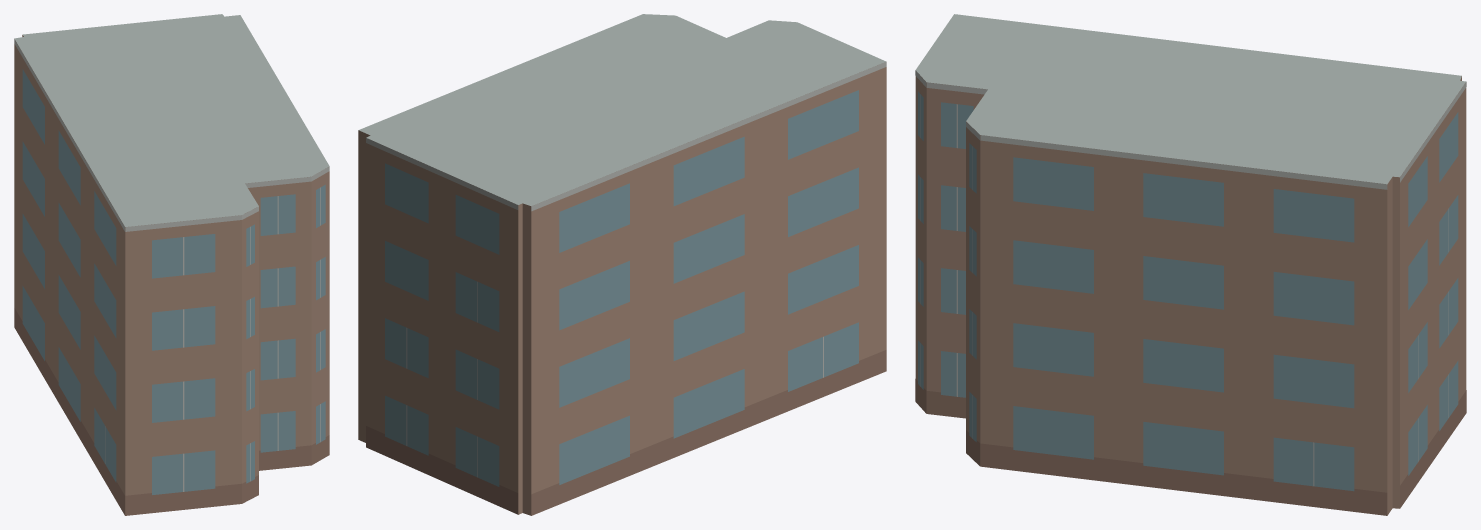
The model's file is survey-upis-32834637.glb.
3 views of the same model, side by side, from view 1: azimuth 30°, elevation 25°; view 2: azimuth 150°, elevation 25°; view 3: azimuth 270°, elevation 25° (orthographic). The views are drawn at different scales.
Parts seen in each view (by area): view 1: survey-upis-32834637.tmp; view 2: survey-upis-32834637.tmp; view 3: survey-upis-32834637.tmp.
Part boxes in pixels (left/top/right/bottom): survey-upis-32834637.tmp: left=14, top=14, right=329, bottom=515; survey-upis-32834637.tmp: left=358, top=14, right=886, bottom=515; survey-upis-32834637.tmp: left=915, top=14, right=1466, bottom=515.
Size of the model in its own units: 15.98 by 14.5 by 21.84.
